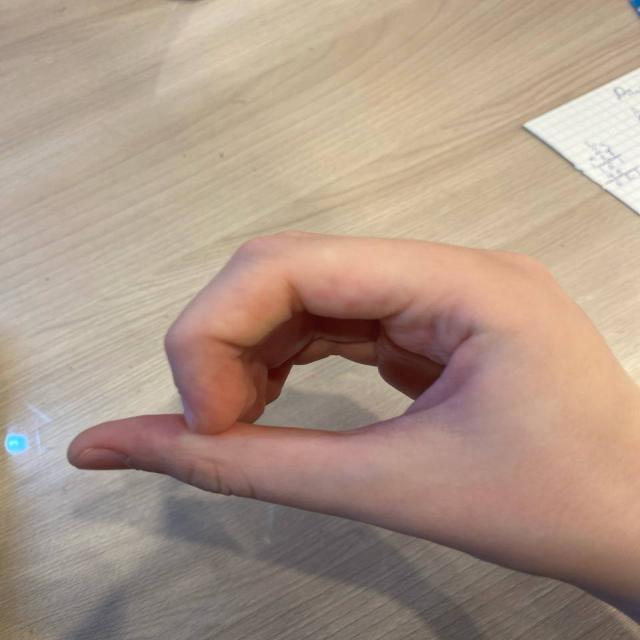e: (54, 210, 596, 508)
